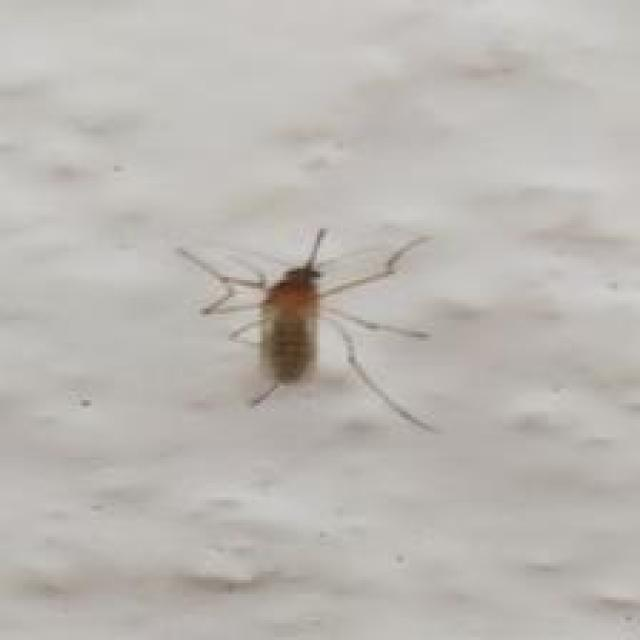Culex: (175, 226, 438, 434)
